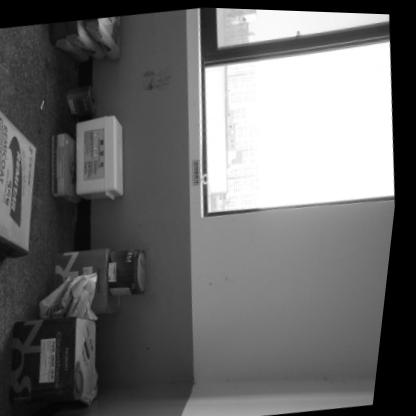DDL: (69, 110, 137, 204)
